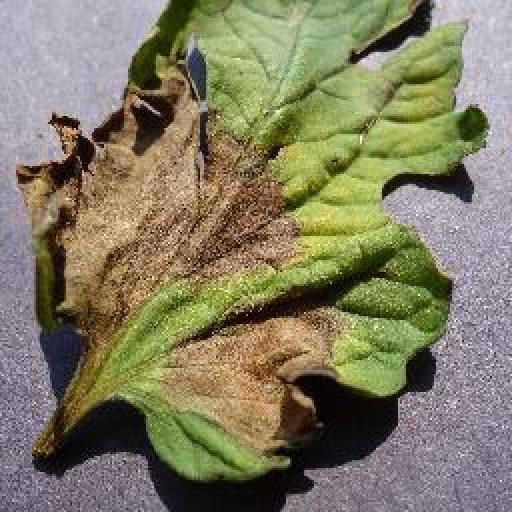disease_tomato: (10, 0, 488, 480)
